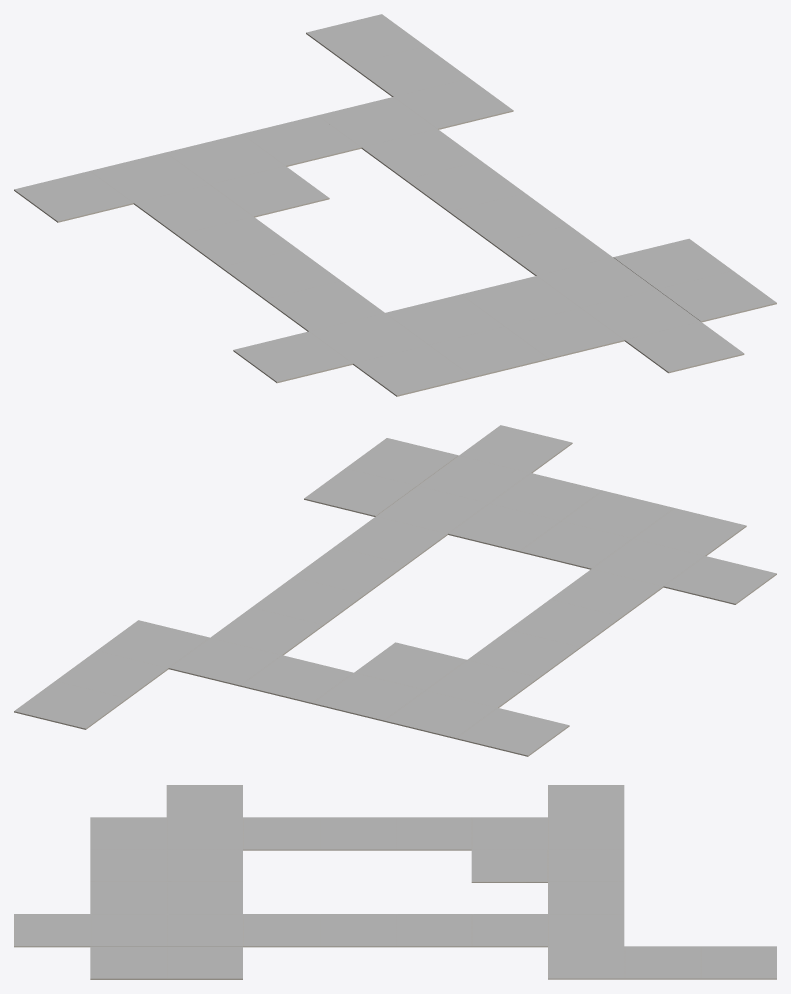
Rendered from Hallway_Ceiling.fbx.
The picture shows the model from 3 angles, top to bottom: view 1: azimuth 30°, elevation 25°; view 2: azimuth 150°, elevation 25°; view 3: azimuth 270°, elevation 25°; orthographic projection. The views are drawn at different scales.
Parts seen in each view (by area): view 1: Ceiling14, Ceiling19, Ceiling20, Ceiling29, Ceiling13, Ceiling17, Ceiling15, Ceiling16, Ceiling1, Ceiling26, Ceiling22, Ceiling6 (+17 smaller); view 2: Ceiling, Ceiling20, Ceiling29, Ceiling8, Ceiling21, Ceiling15, Ceiling11, Ceiling24, Ceiling25, Ceiling10, Ceiling2, Ceiling4 (+17 smaller); view 3: Ceiling, Ceiling2, Ceiling3, Ceiling4, Ceiling5, Ceiling13, Ceiling23, Ceiling26, Ceiling1, Ceiling6, Ceiling7, Ceiling8 (+17 smaller).
Boxes of the visible parts, <box> form: Ceiling14: <box>353,345,472,396</box>; Ceiling19: <box>624,321,744,373</box>; Ceiling20: <box>233,331,352,383</box>; Ceiling29: <box>14,171,133,222</box>; Ceiling13: <box>657,271,776,322</box>; Ceiling17: <box>505,308,624,359</box>; Ceiling15: <box>242,115,361,166</box>; Ceiling16: <box>429,326,548,378</box>; Ceiling1: <box>210,166,329,217</box>; Ceiling26: <box>394,78,513,129</box>; Ceiling22: <box>405,161,524,212</box>; Ceiling6: <box>361,129,480,180</box>; Ceiling: <box>14,681,127,729</box>; Ceiling20: <box>663,556,776,604</box>; Ceiling29: <box>456,708,569,756</box>; Ceiling8: <box>304,468,416,516</box>; Ceiling21: <box>312,672,425,721</box>; Ceiling15: <box>240,655,353,704</box>; Ceiling11: <box>448,503,560,552</box>; Ceiling24: <box>384,690,497,739</box>; Ceiling25: <box>168,637,281,686</box>; Ceiling10: <box>520,521,632,569</box>; Ceiling2: <box>56,650,168,699</box>; Ceiling4: <box>293,546,406,595</box>; Ceiling: <box>700,946,776,979</box>; Ceiling2: <box>624,946,700,979</box>; Ceiling3: <box>319,817,395,850</box>; Ceiling4: <box>319,914,395,947</box>; Ceiling5: <box>243,817,319,850</box>; Ceiling13: <box>90,946,166,979</box>; Ceiling23: <box>395,817,471,850</box>; Ceiling26: <box>548,946,624,979</box>; Ceiling1: <box>471,849,547,882</box>; Ceiling6: <box>471,914,547,947</box>; Ceiling7: <box>243,914,319,947</box>; Ceiling8: <box>166,946,242,979</box>.
Bounding box in the file's own units: 3603 × 10 × 6000.
